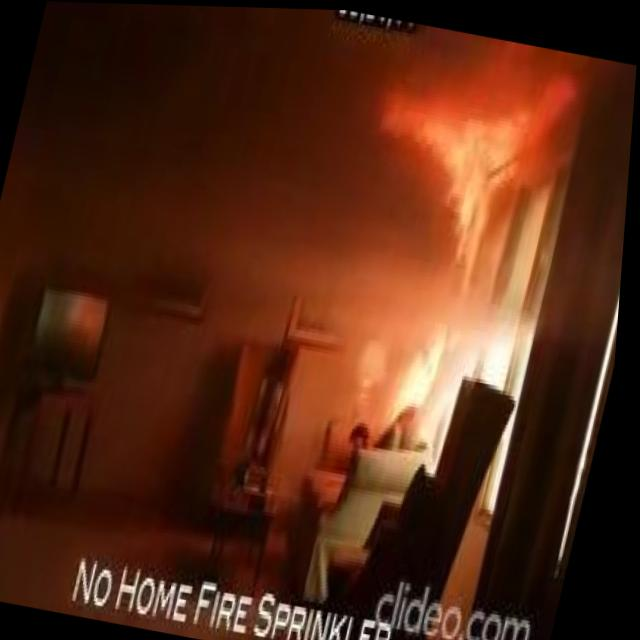fire: (373, 68, 547, 274), (398, 322, 452, 403)
